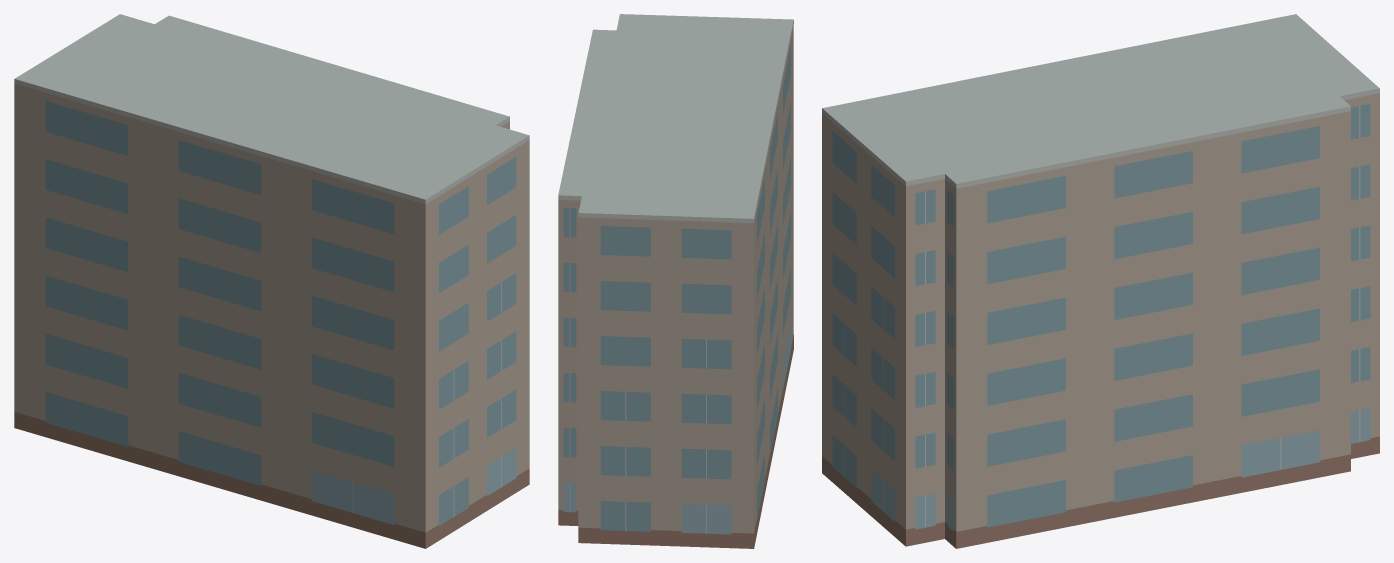
Rendered from survey-upis-32991971.glb.
3 renders of one model, left to right at view 1: azimuth 30°, elevation 25°; view 2: azimuth 150°, elevation 25°; view 3: azimuth 270°, elevation 25°, orthographic. The views are drawn at different scales.
Visible parts, largest first — view 1: survey-upis-32991971.tmp; view 2: survey-upis-32991971.tmp; view 3: survey-upis-32991971.tmp.
Boxes of the visible parts, left/top/right/bottom form: survey-upis-32991971.tmp: left=14, top=14, right=529, bottom=548; survey-upis-32991971.tmp: left=558, top=14, right=793, bottom=548; survey-upis-32991971.tmp: left=822, top=14, right=1379, bottom=548.
Bounding box in the file's own units: 18.27 × 18.3 × 25.35.
